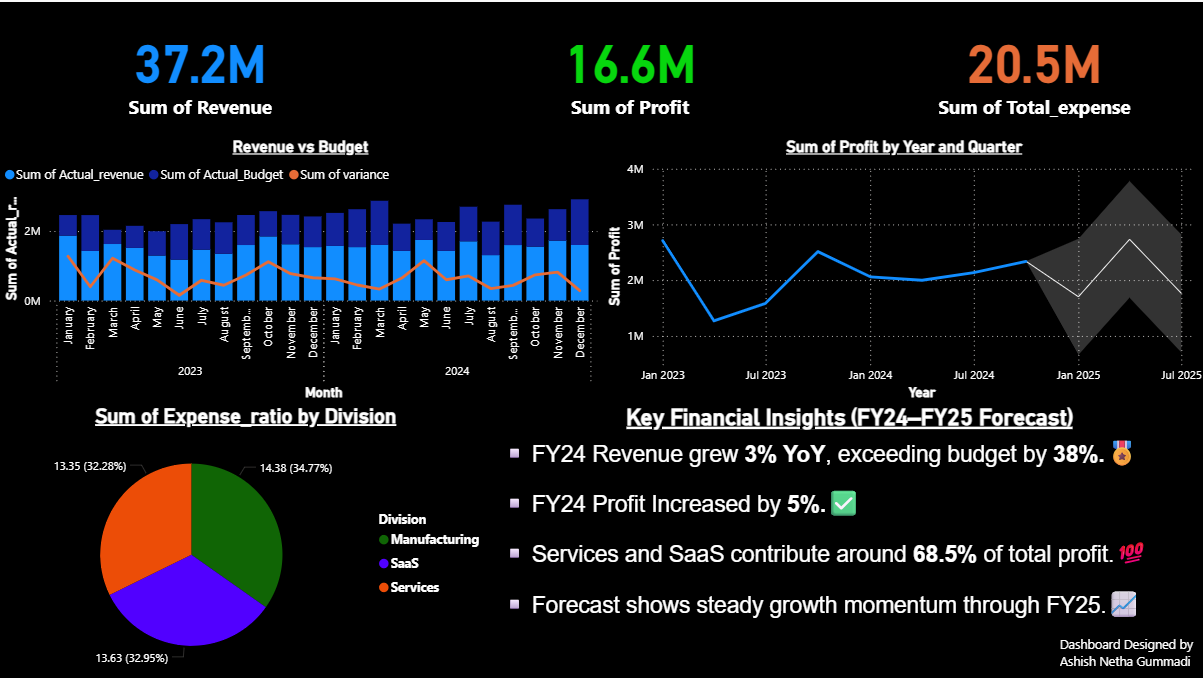

The dashboard page shown, as its layout file describes it:
{"tool":"powerbi","page":{"name":"Page 3","canvas":[1280,720],"ordinal":2},"visuals":[{"type":"card","fields":{"Values":["Sum(Table1.Revenue)"]},"box":[0,0,426.3,143.2],"z":0},{"type":"card","fields":{"Values":["Sum(Profit Table.Profit)"]},"box":[412,0,513.8,143.2],"z":1000},{"type":"card","fields":{"Values":["Sum(Table2.Total_expense)"]},"box":[914.6,0,365.8,143.2],"z":2000},{"type":"lineStackedColumnComboChart","title":"Revenue vs Budget","fields":{"Category":["Table4.Date.Variation.Date Hierarchy.Year","Table4.Date.Variation.Date Hierarchy.Month"],"Y":["Sum(Table4.Actual_revenue)","Sum(Table4.Actual_Budget)"],"Y2":["Sum(Table4.variance)"]},"box":[0,143.2,639.4,283.1],"z":3000},{"type":"lineChart","fields":{"Y":["Sum(Profit Table.Profit)"],"Category":["Profit Table.Year.Variation.Date Hierarchy.Year","Profit Table.Year.Variation.Date Hierarchy.Quarter"]},"box":[639.4,143.2,641,283.1],"z":4000},{"type":"pieChart","fields":{"Y":["Sum(Table10.Expense_ratio)"],"Category":["Table10.Division"]},"box":[0,426.3,523.3,294.3],"z":5000},{"type":"textbox","title":"Key Financial Insights (FY24–FY25 Forecast)","box":[523.3,426.3,757.1,294.3],"z":6000},{"type":"textbox","box":[1119.8,666.5,160.7,54.1],"z":6001}]}

Visuals, with their boxes in screenshot pixels (x1, y1, x2, y2), scaled from the page's 1280x720 canvas onto the 1203x678 screenshot:
card - Sum(Table1.Revenue): bbox=[0, 0, 401, 135]
card - Sum(Profit Table.Profit): bbox=[387, 0, 870, 135]
card - Sum(Table2.Total_expense): bbox=[860, 0, 1202, 135]
"Revenue vs Budget" lineStackedColumnComboChart: bbox=[0, 135, 601, 401]
lineChart - Sum(Profit Table.Profit) x Profit Table.Year.Variation.Date Hierarchy.Year: bbox=[601, 135, 1202, 401]
pieChart - Sum(Table10.Expense_ratio) x Table10.Division: bbox=[0, 401, 492, 677]
"Key Financial Insights (FY24–FY25 Forecast)" textbox: bbox=[492, 401, 1202, 677]
textbox: bbox=[1052, 628, 1202, 677]
